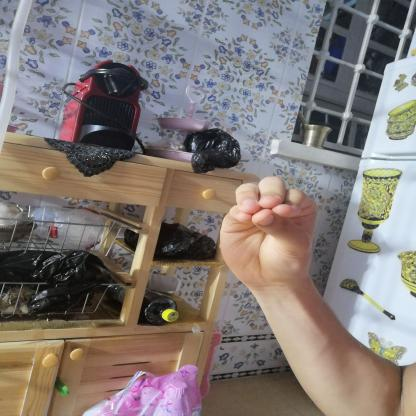HA: (206, 168, 334, 299)
